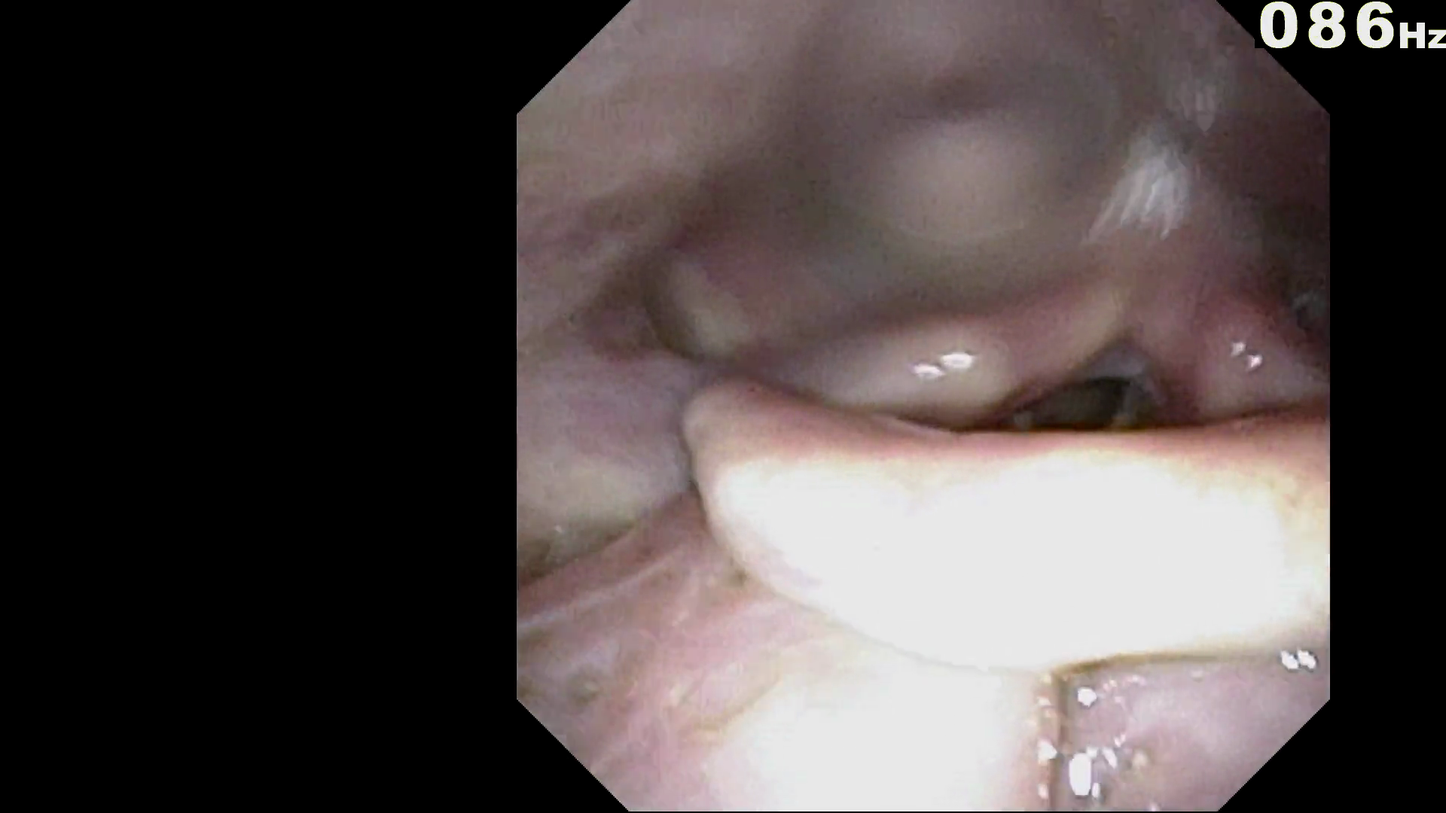epiglottis: (738, 386, 1307, 611)
trachea: (1048, 370, 1150, 455)
